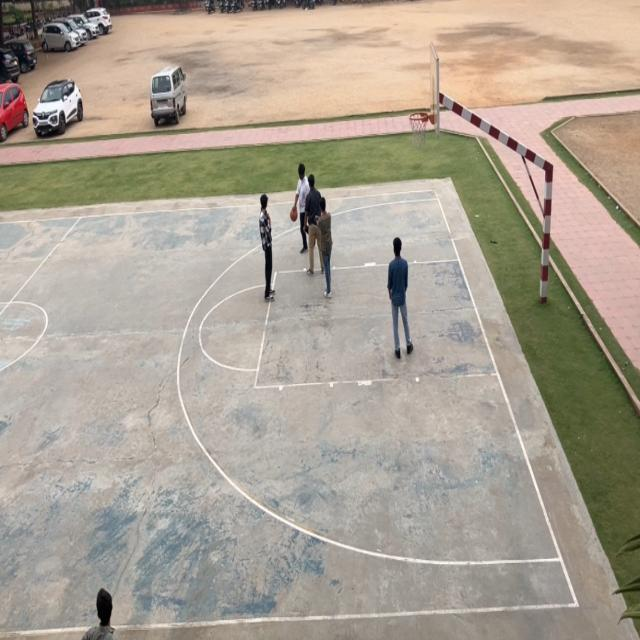basketball: (290, 204, 298, 224)
hoop: (406, 110, 431, 146)
